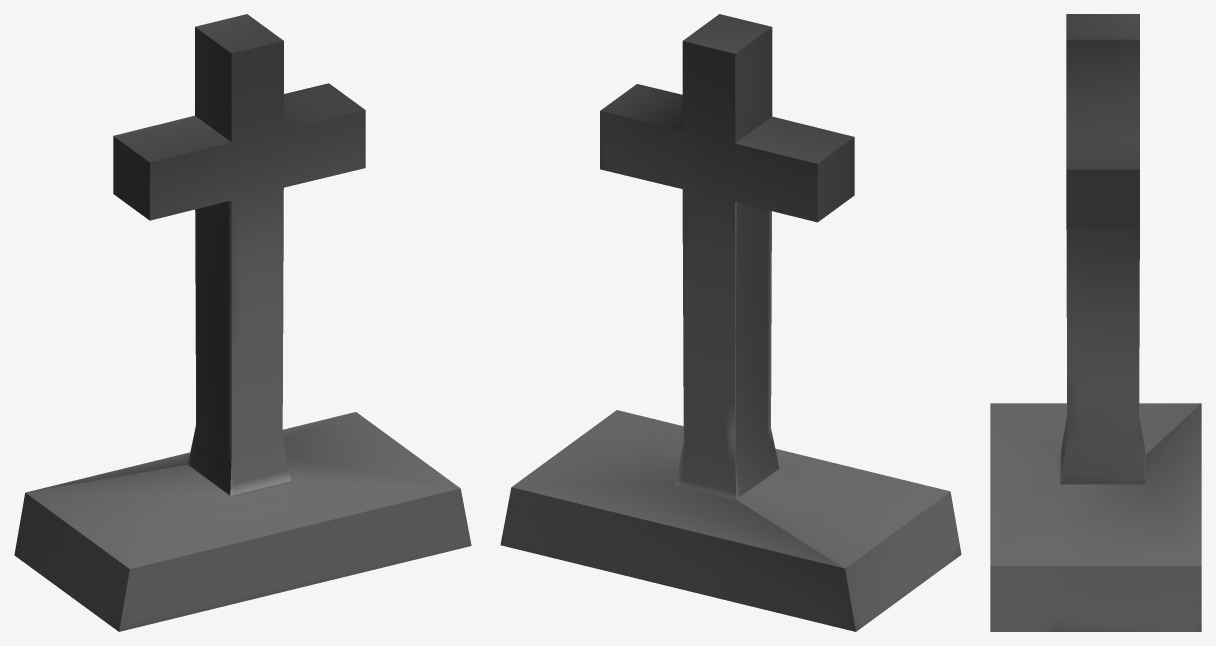
File: Tumulo_7.glb
The picture shows the model from 3 angles, left to right: view 1: azimuth 30°, elevation 25°; view 2: azimuth 150°, elevation 25°; view 3: azimuth 270°, elevation 25°; orthographic projection.
Visible parts, largest first — view 1: Tumulo.7; view 2: Tumulo.7; view 3: Tumulo.7.
Part boxes in pixels (left/top/right/bottom): Tumulo.7: left=14, top=14, right=471, bottom=631; Tumulo.7: left=500, top=14, right=961, bottom=631; Tumulo.7: left=990, top=14, right=1201, bottom=631.
Bounding box in the file's own units: 0.3228 × 0.45 × 0.166.
Materials: 1 (1 with a texture image).
